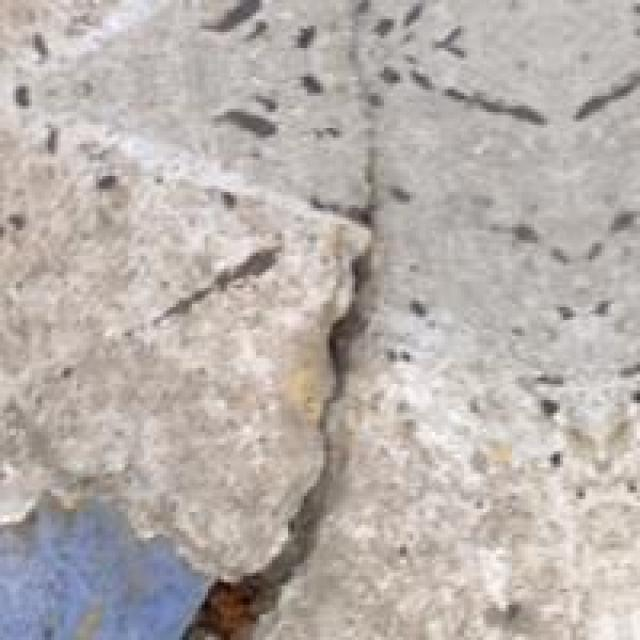Crack: (118, 89, 457, 640)
